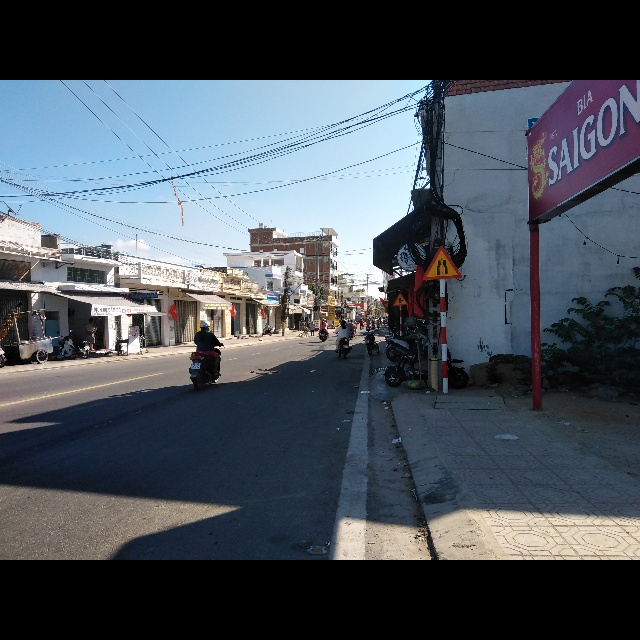Đường bị hẹp cả hai bên: (423, 247, 464, 280)
